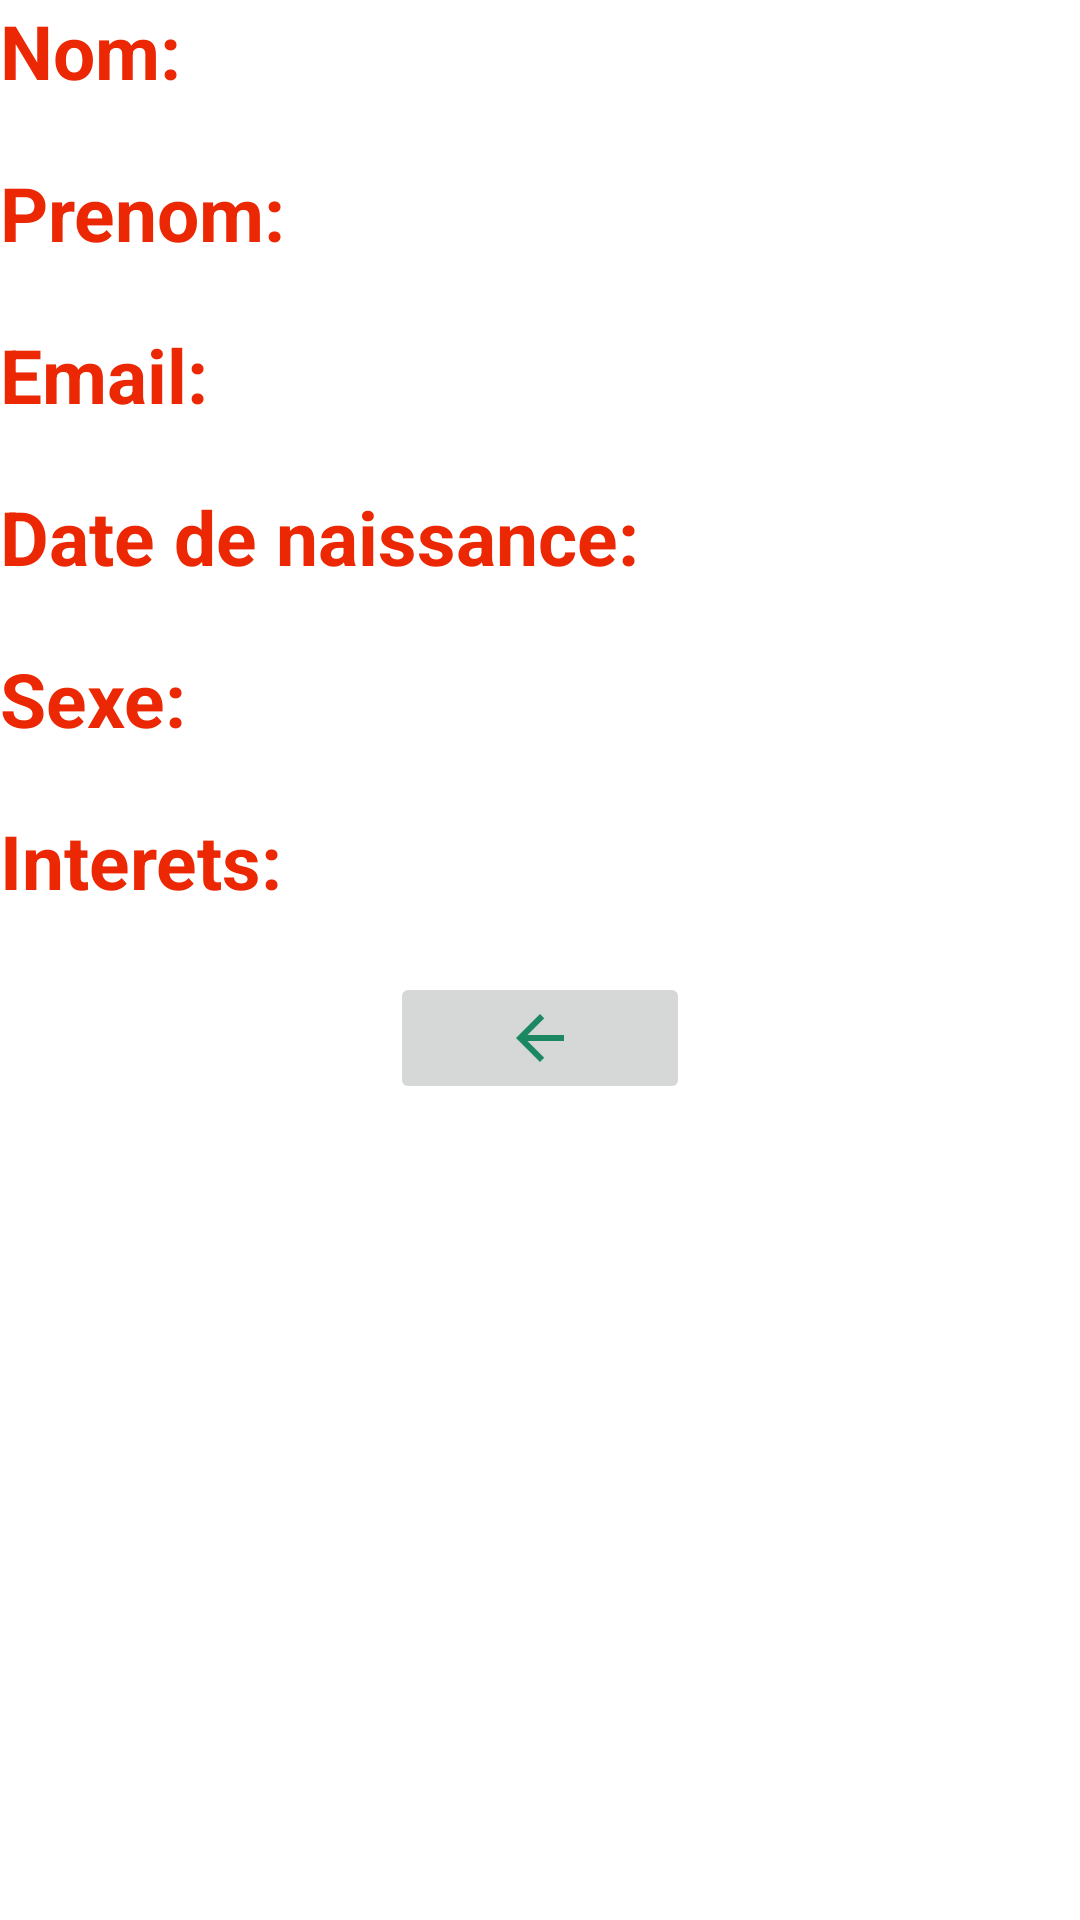

Locate icon controls on the screen. Image size 1080*1920, boxes as bbox=[x1, y1, x2, y2].
arrow back: bbox=[402, 990, 678, 1086]
